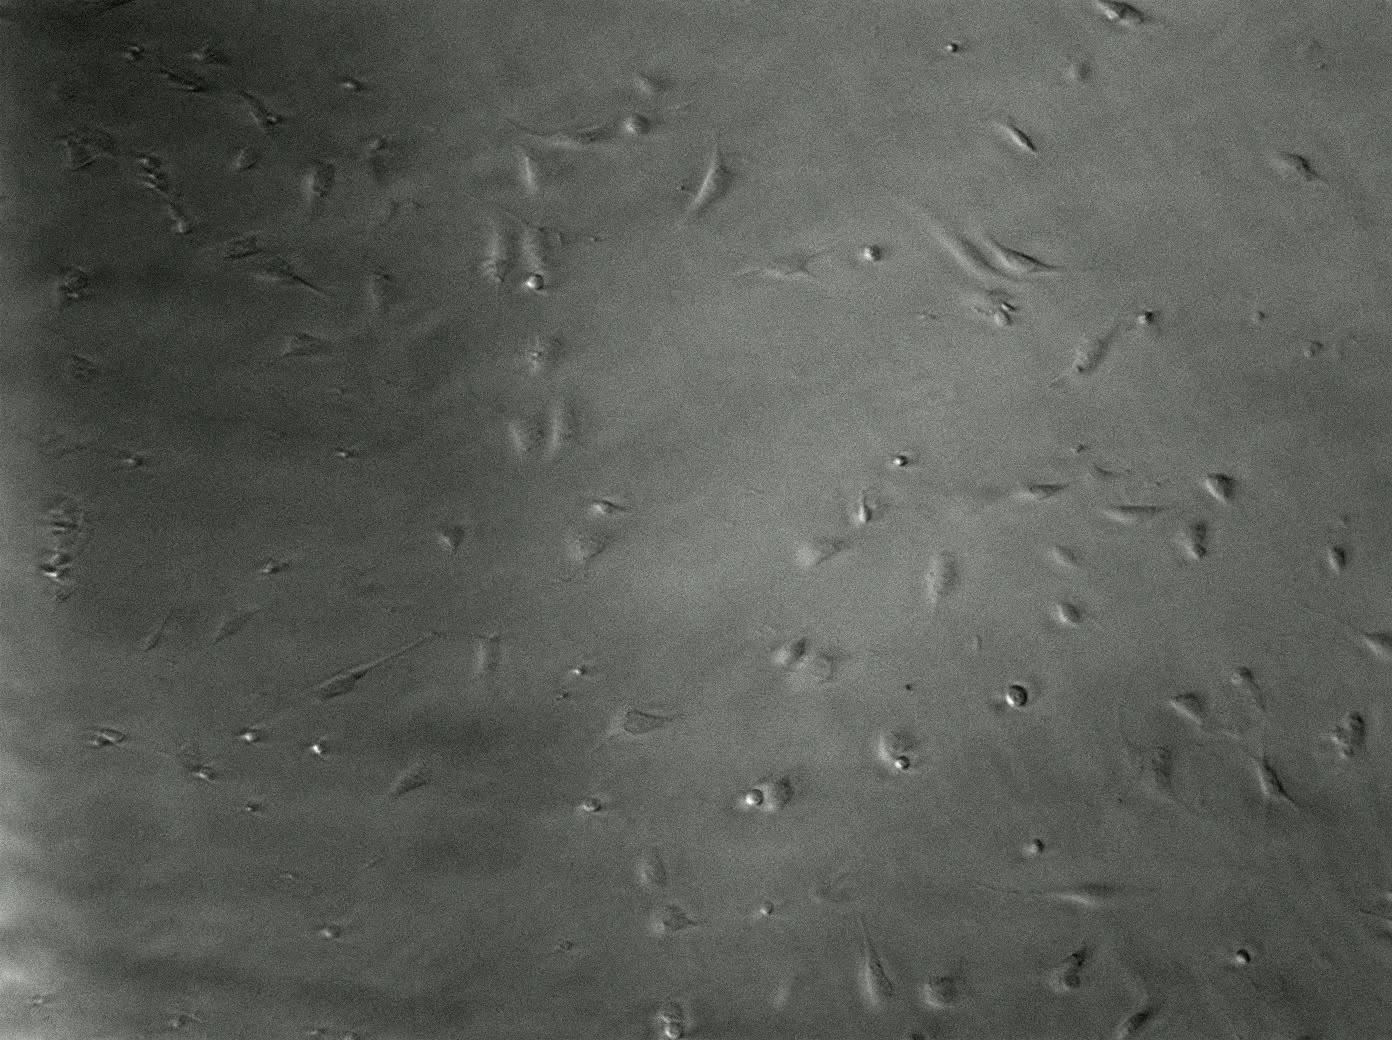cell: (894, 196, 1036, 292), (1107, 701, 1210, 819), (296, 629, 438, 707), (727, 234, 840, 296), (1237, 726, 1305, 825), (1301, 601, 1392, 665), (505, 204, 567, 293), (1046, 317, 1123, 387), (677, 137, 742, 220), (971, 222, 1063, 279), (587, 708, 694, 756), (502, 114, 628, 153), (476, 206, 524, 308), (976, 881, 1128, 911), (545, 380, 597, 464), (250, 326, 343, 369), (245, 255, 335, 297), (859, 914, 895, 1009), (1101, 991, 1170, 1040), (380, 751, 444, 803), (17, 429, 106, 466), (1318, 709, 1367, 770), (234, 91, 287, 146), (60, 347, 123, 392), (953, 288, 1024, 326), (507, 405, 547, 469), (1265, 149, 1334, 186), (563, 521, 616, 568), (1038, 945, 1087, 995), (927, 547, 964, 613), (210, 603, 264, 647), (158, 729, 204, 779), (528, 327, 568, 383), (303, 157, 337, 224), (368, 268, 414, 316), (203, 231, 268, 264), (155, 60, 219, 94), (176, 36, 237, 70), (1089, 0, 1151, 33), (132, 151, 174, 199), (630, 63, 681, 103), (469, 628, 505, 683), (794, 537, 851, 571), (50, 68, 101, 106), (55, 132, 99, 175), (647, 902, 699, 938), (68, 122, 121, 157), (1169, 690, 1213, 732), (996, 114, 1040, 155), (46, 578, 96, 614), (1097, 504, 1170, 528), (44, 282, 98, 314), (770, 969, 806, 1016), (772, 633, 814, 671), (754, 778, 795, 815), (354, 152, 397, 188), (143, 606, 176, 652), (797, 650, 837, 687), (638, 844, 670, 891), (1025, 477, 1084, 501), (614, 105, 657, 138), (924, 972, 962, 1009), (163, 196, 196, 237), (1203, 470, 1238, 508), (876, 730, 916, 764), (1175, 518, 1210, 554), (434, 520, 467, 557), (1050, 542, 1086, 572), (1053, 600, 1087, 627), (588, 497, 634, 517), (233, 144, 263, 173), (1003, 683, 1030, 712), (1325, 546, 1350, 578), (93, 726, 130, 745), (658, 1001, 685, 1024), (663, 1024, 685, 1039)
debris: (302, 733, 331, 761), (234, 725, 264, 751), (307, 922, 341, 944), (115, 450, 152, 470), (735, 789, 767, 812), (1135, 306, 1163, 332), (575, 793, 605, 816), (522, 270, 547, 295), (255, 557, 291, 575), (334, 75, 367, 94), (166, 1014, 194, 1032), (1231, 947, 1254, 969), (992, 309, 1017, 329), (861, 244, 883, 265), (1059, 972, 1083, 992), (192, 767, 221, 783), (858, 492, 872, 524), (996, 299, 1024, 316), (333, 446, 362, 461), (368, 132, 388, 154), (941, 39, 965, 57), (27, 993, 57, 1007), (550, 938, 575, 954), (303, 1026, 334, 1038), (1189, 542, 1208, 560), (758, 897, 776, 918), (1026, 838, 1046, 855), (889, 454, 911, 469), (87, 736, 115, 747), (334, 1030, 364, 1040), (264, 114, 288, 125), (895, 756, 910, 772), (568, 664, 589, 676), (243, 802, 259, 815), (555, 688, 570, 699)
